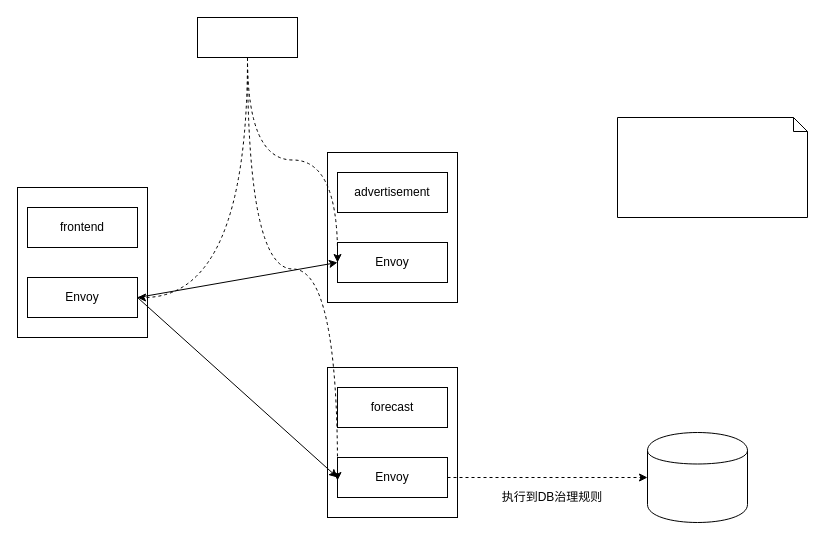
Some shapes in this 825 by 540 pixel diagram are drawn without their labels. Here are the shapes that lost their labels. From the top down, the centre of each, then its label:
At point 247,37: "Pilot".
At point 712,167: "服务发现： frontend advertisement forecast + db[ServiceEntry]".
At point 697,477: "DB".
